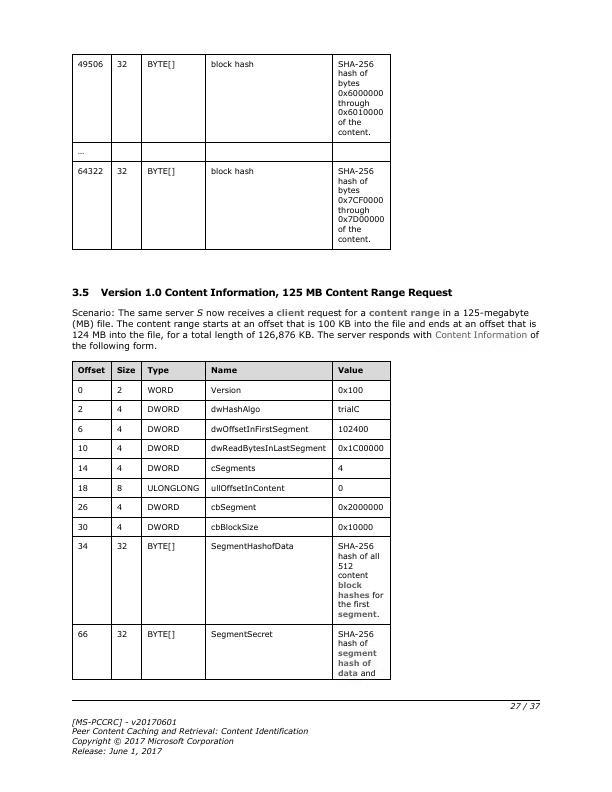table: (68, 360, 394, 682), (71, 52, 391, 252)
text: (68, 307, 540, 352), (68, 715, 312, 757), (68, 286, 456, 300)
